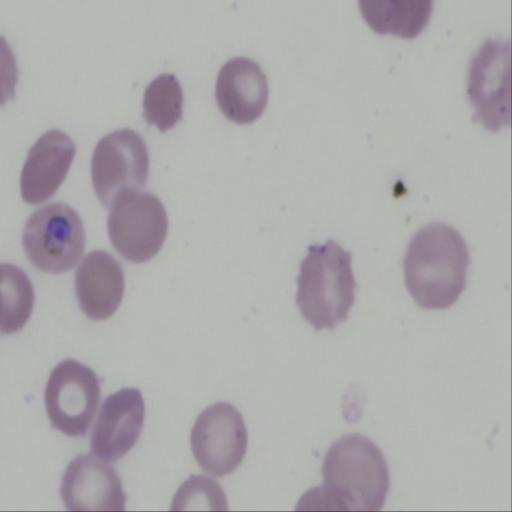Infected: (23, 203, 86, 273)
Uninfected: (400, 223, 470, 311), (293, 241, 359, 330), (321, 435, 387, 508), (20, 129, 77, 204), (107, 190, 167, 261), (44, 360, 100, 436), (89, 131, 147, 204), (465, 37, 509, 129), (190, 403, 247, 474), (90, 388, 146, 459), (216, 57, 269, 124), (61, 456, 125, 511), (75, 251, 124, 321), (143, 74, 185, 130), (1, 265, 34, 332), (171, 476, 227, 511)
